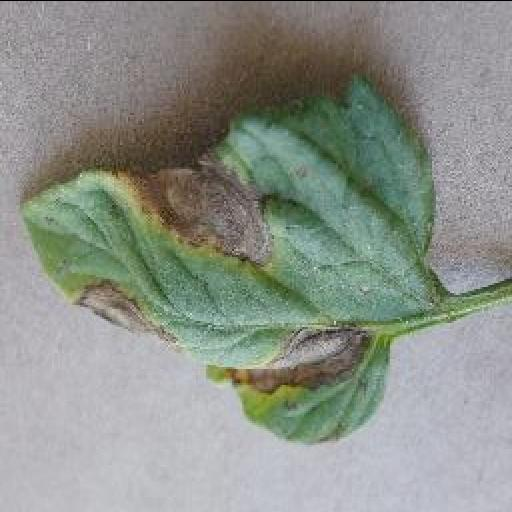disease_tomato: (19, 76, 437, 444)
